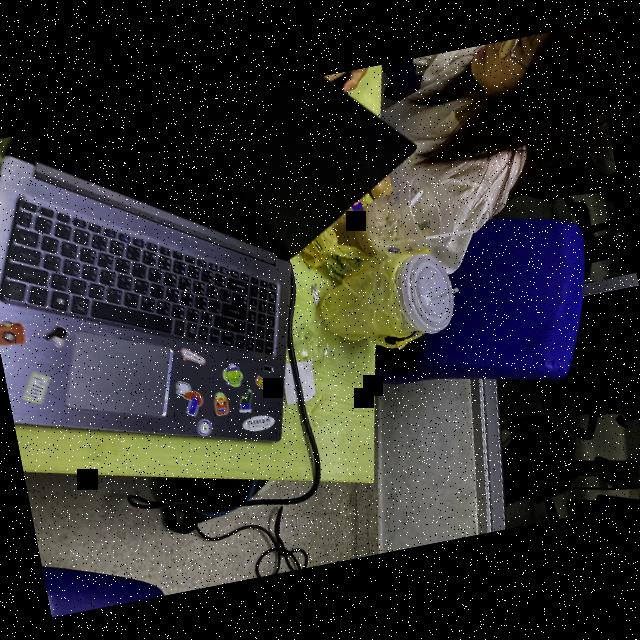plastic_bag: (314, 255, 422, 364), (297, 205, 379, 287)
plastic_bottle: (327, 172, 467, 274)
plastic_cup_lid: (385, 248, 465, 340)
scrap_paper: (276, 356, 324, 410)
scrap_plastic: (288, 318, 334, 372)
straw: (419, 218, 479, 242), (422, 282, 462, 308)
